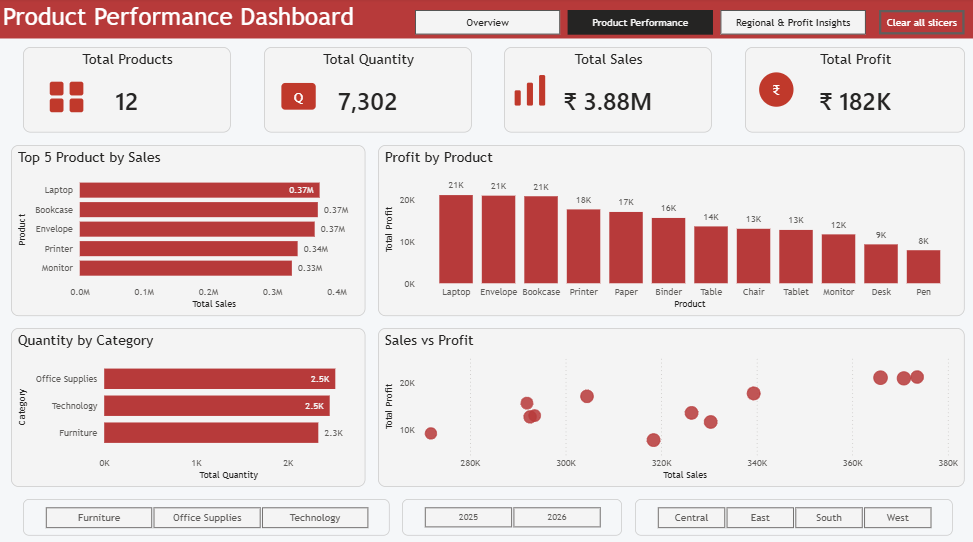

Layout of this report page (visuals, bound fields, positions):
{"tool":"powerbi","page":{"name":"Product Performance","canvas":[1280,720],"ordinal":1},"visuals":[{"type":"textbox","box":[0,0,1280,53],"z":0},{"type":"cardVisual","title":"Total Products","fields":{"Data":["Count(Sales_Data.Product)"]},"box":[32,64,272,112],"z":1000},{"type":"cardVisual","title":"Total Quantity","fields":{"Data":["Sum(Sales_Data.Quantity)"]},"box":[346.7,64,272,112],"z":2000},{"type":"cardVisual","title":"Total Sales","fields":{"Data":["Sum(Sales_Data.Sales)"]},"box":[661.3,64,272,112],"z":3000},{"type":"cardVisual","title":"Total Profit","fields":{"Data":["Sum(Sales_Data.Profit)"]},"box":[976,64,288,112],"z":4000},{"type":"clusteredBarChart","title":"Top 5 Product by Sales","fields":{"Category":["Sales_Data.Product"],"Y":["Sum(Sales_Data.Sales)"]},"box":[16,192,464,224],"z":5000},{"type":"clusteredColumnChart","title":"Profit by Product","fields":{"Category":["Sales_Data.Product"],"Y":["Sum(Sales_Data.Profit)"]},"box":[496,192,768,224],"z":6000},{"type":"clusteredBarChart","title":"Quantity by Category","fields":{"Category":["Sales_Data.Category"],"Y":["Sum(Sales_Data.Quantity)"]},"box":[16,432,464,208],"z":7000},{"type":"scatterChart","title":"Sales vs Profit","fields":{"X":["Sum(Sales_Data.Sales)"],"Y":["Sum(Sales_Data.Profit)"],"Category":["Sales_Data.Product"],"Size":["Sum(Sales_Data.Quantity)"]},"box":[496,432,768,208],"z":8000},{"type":"slicer","fields":{"Values":["Sales_Data.Region"]},"box":[832,656,416,48],"z":9000},{"type":"slicer","fields":{"Values":["Sales_Data.Category"]},"box":[32,656,480,48],"z":10000},{"type":"pageNavigator","box":[544,16,592,32],"z":11000},{"type":"actionButton","box":[1152,16,112,32],"z":12000},{"type":"slicer","fields":{"Values":["Sales_Data.Year"]},"box":[528,656,288,48],"z":12001},{"type":"image","box":[48,96,80,64],"z":12002},{"type":"image","box":[352,88,80,81],"z":12003},{"type":"image","box":[664.9,63,64,112],"z":12004},{"type":"image","box":[976,80,82,80],"z":12005}]}

Visuals, with their boxes in screenshot pixels (x1, y1, x2, y2), scaled from the page's 1280x720 canvas onto the 973x542 screenshot:
textbox: rect(0, 0, 972, 40)
"Total Products" cardVisual: rect(24, 48, 231, 132)
"Total Quantity" cardVisual: rect(264, 48, 470, 132)
"Total Sales" cardVisual: rect(503, 48, 709, 132)
"Total Profit" cardVisual: rect(742, 48, 961, 132)
"Top 5 Product by Sales" clusteredBarChart: rect(12, 145, 365, 313)
"Profit by Product" clusteredColumnChart: rect(377, 145, 961, 313)
"Quantity by Category" clusteredBarChart: rect(12, 325, 365, 482)
"Sales vs Profit" scatterChart: rect(377, 325, 961, 482)
slicer - Sales_Data.Region: rect(632, 494, 949, 530)
slicer - Sales_Data.Category: rect(24, 494, 389, 530)
pageNavigator: rect(414, 12, 864, 36)
actionButton: rect(876, 12, 961, 36)
slicer - Sales_Data.Year: rect(401, 494, 620, 530)
image: rect(36, 72, 97, 120)
image: rect(268, 66, 328, 127)
image: rect(505, 47, 554, 132)
image: rect(742, 60, 804, 120)
